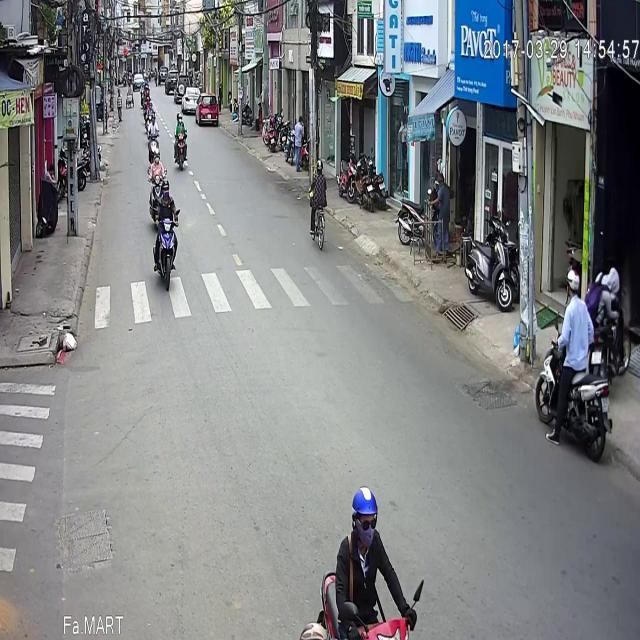bicycle: (308, 101, 326, 191)
car: (194, 34, 218, 68)
motorcycle: (300, 428, 424, 609), (535, 212, 612, 404), (152, 122, 180, 235), (147, 89, 167, 165), (172, 53, 188, 111), (146, 55, 160, 106)
